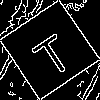T: (25, 25, 76, 80)
